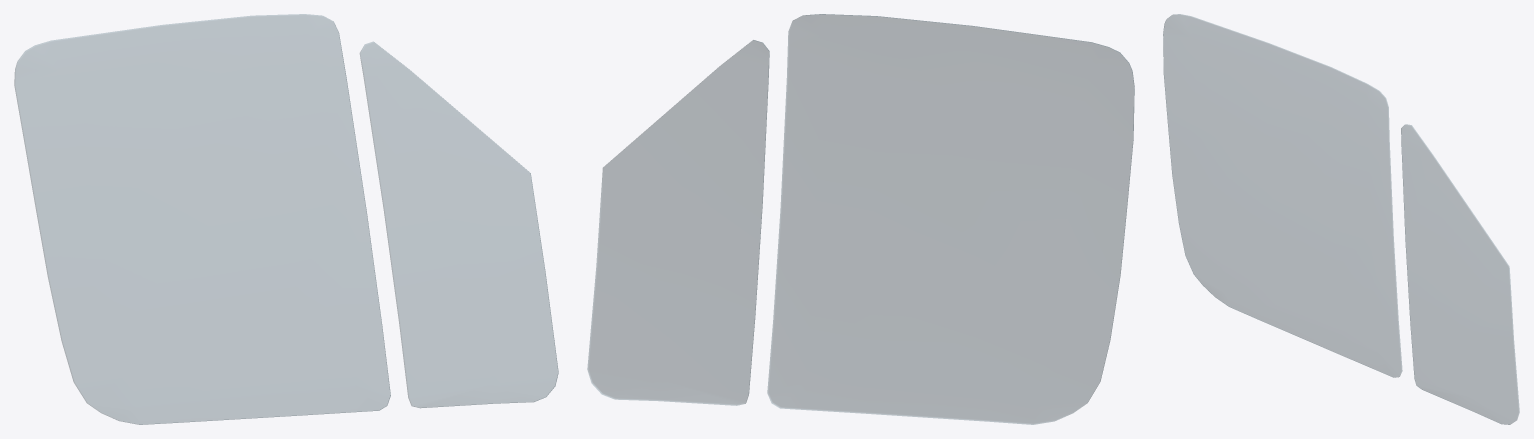
The picture shows the model from 3 angles, left to right: view 1: azimuth 30°, elevation 25°; view 2: azimuth 150°, elevation 25°; view 3: azimuth 330°, elevation 25°; orthographic projection. The views are drawn at different scales.
Parts seen in each view (by area): view 1: SM_MercedesSprinter_Door_FR_Glass_Ext1; view 2: SM_MercedesSprinter_Door_FR_Glass_Ext1; view 3: SM_MercedesSprinter_Door_FR_Glass_Ext1.
Boxes of the visible parts, x1,y1,x2,y2 form: SM_MercedesSprinter_Door_FR_Glass_Ext1: (14, 14, 558, 424); SM_MercedesSprinter_Door_FR_Glass_Ext1: (587, 14, 1134, 424); SM_MercedesSprinter_Door_FR_Glass_Ext1: (1163, 14, 1519, 424).
Bounding box in the file's own units: 0.8766 × 0.7316 × 0.0541.
